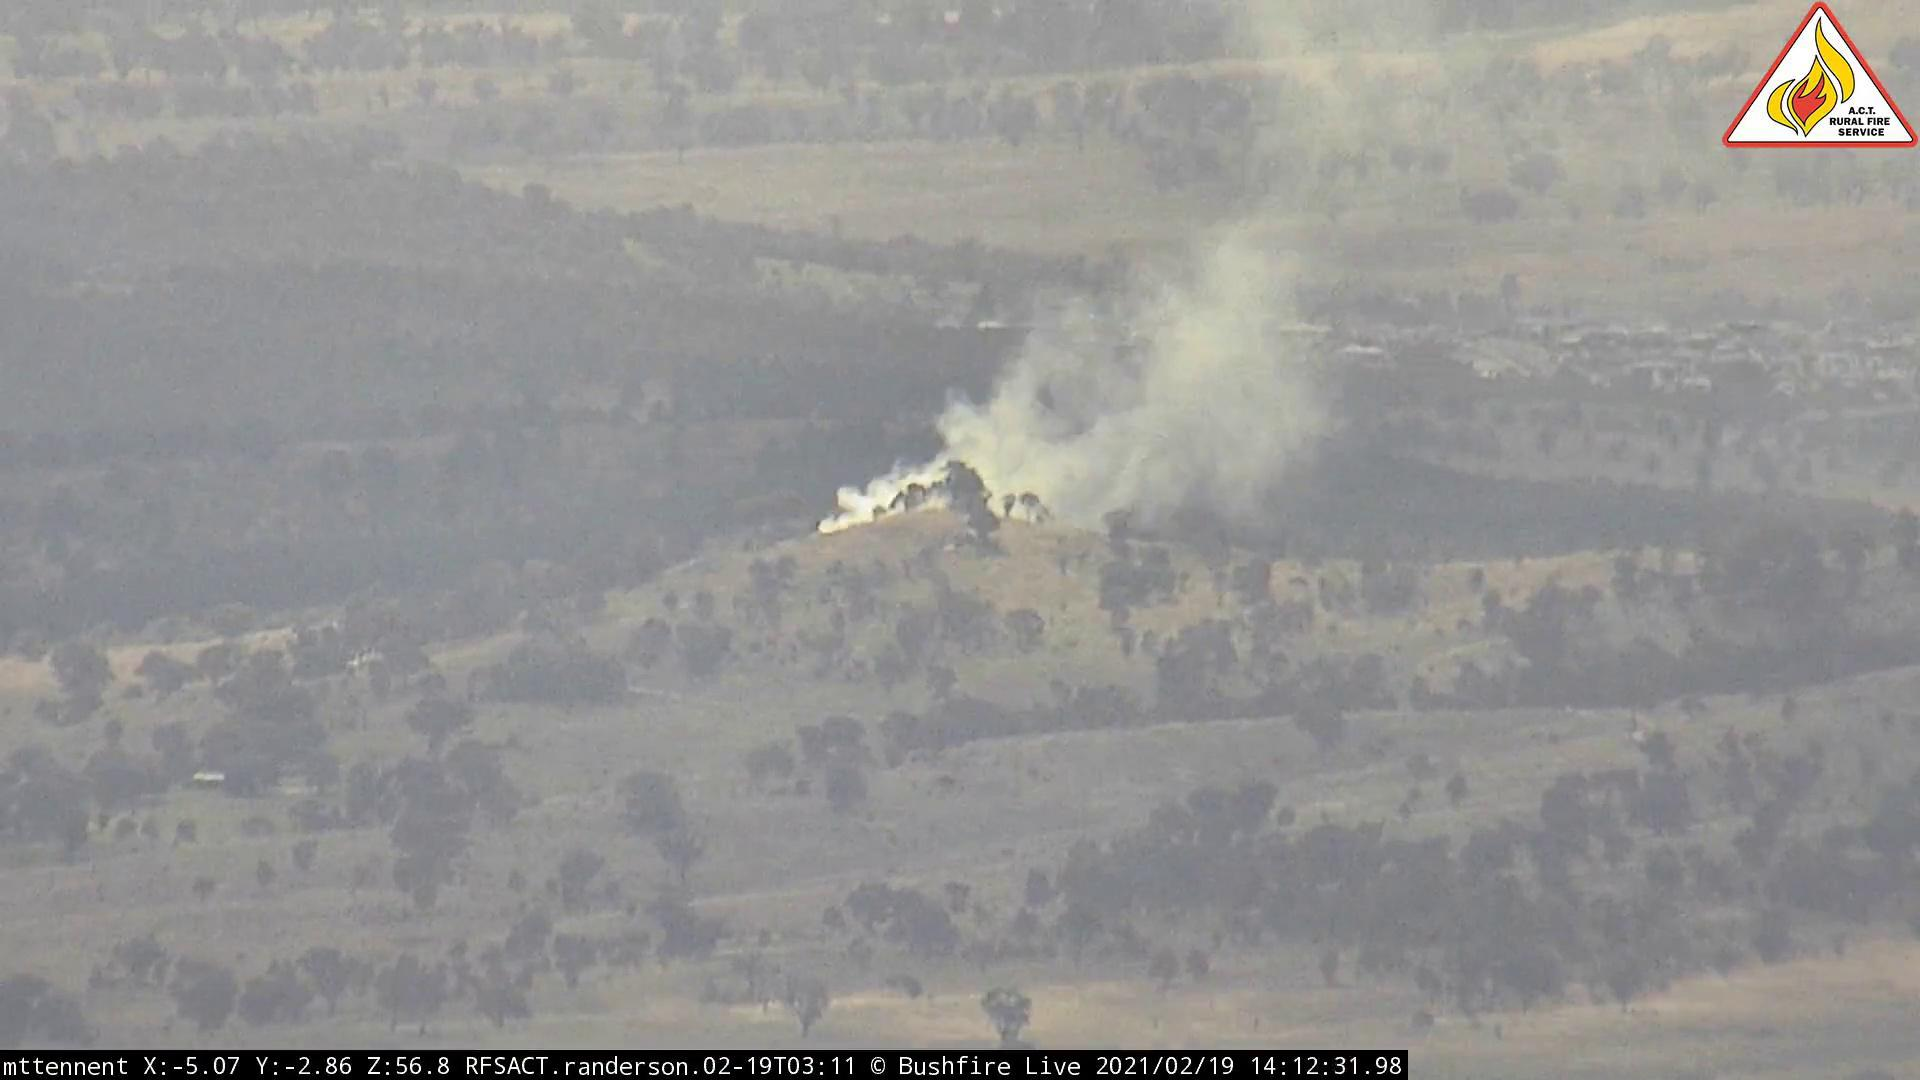instance_salient_object: (811, 173, 1445, 545)
